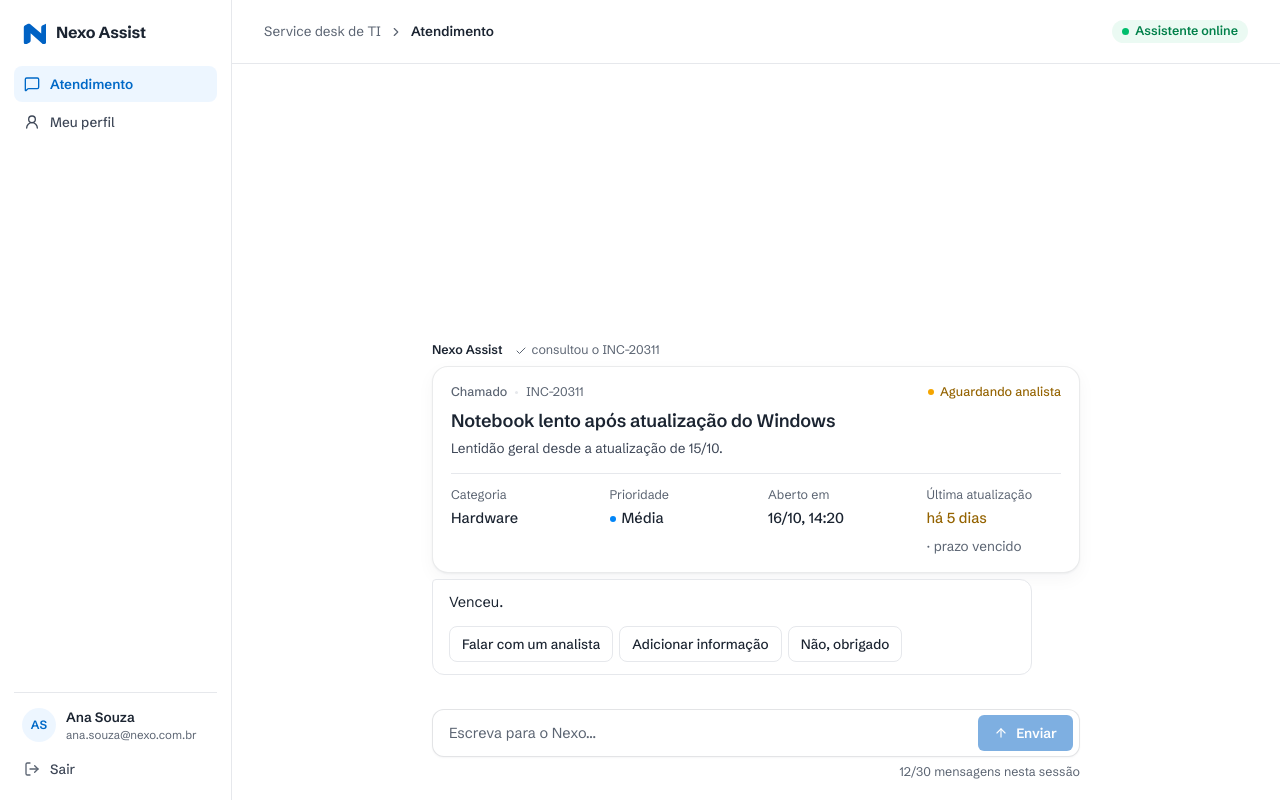
tela do chat (tela 2) › tela 3: escolher um chamado e a oferta de analista (RF08, RF09, RN07) › o erro de uma ação aparece na resposta em que ela foi feita
The image size is (1280, 800).
Click the button "Não, obrigado": coordinates (845, 644) [788,626,902,662]
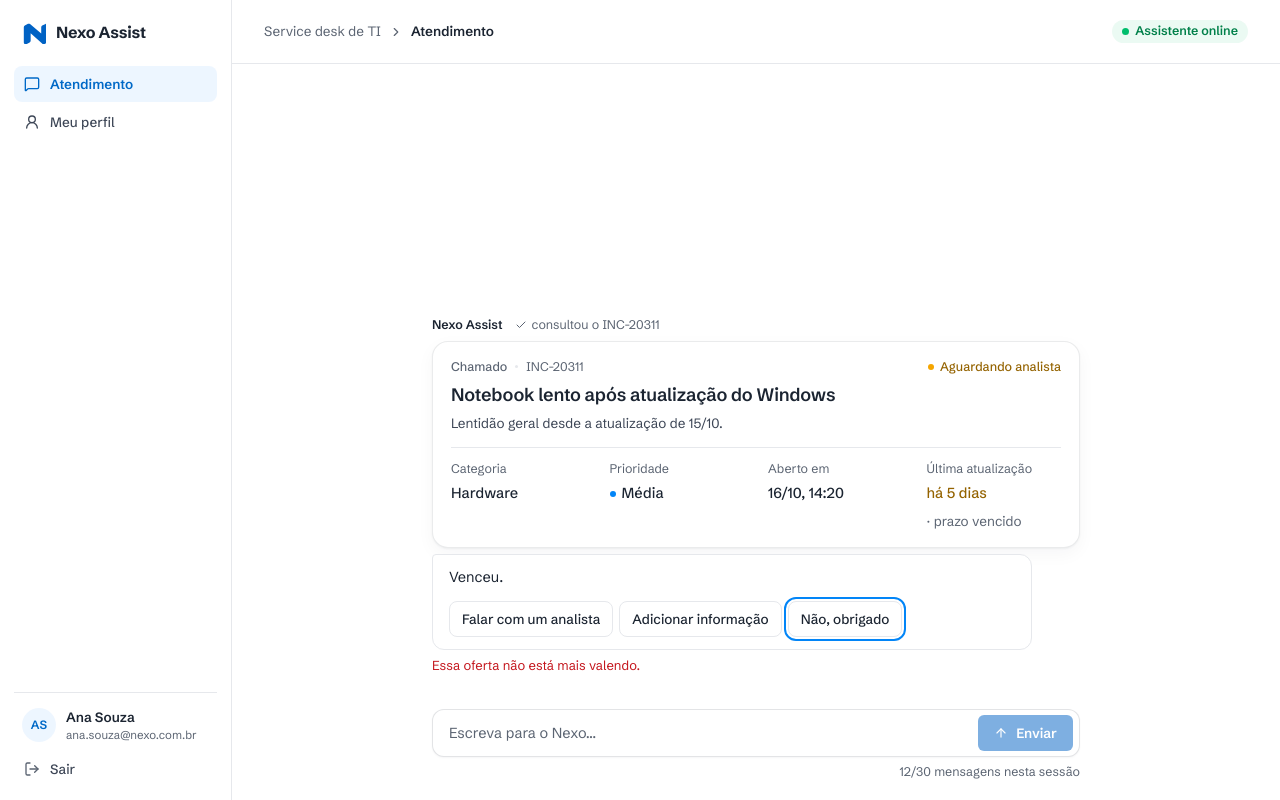
expect the message "Essa oferta não está mais valendo." is shown: met, box [432,657,640,673]
